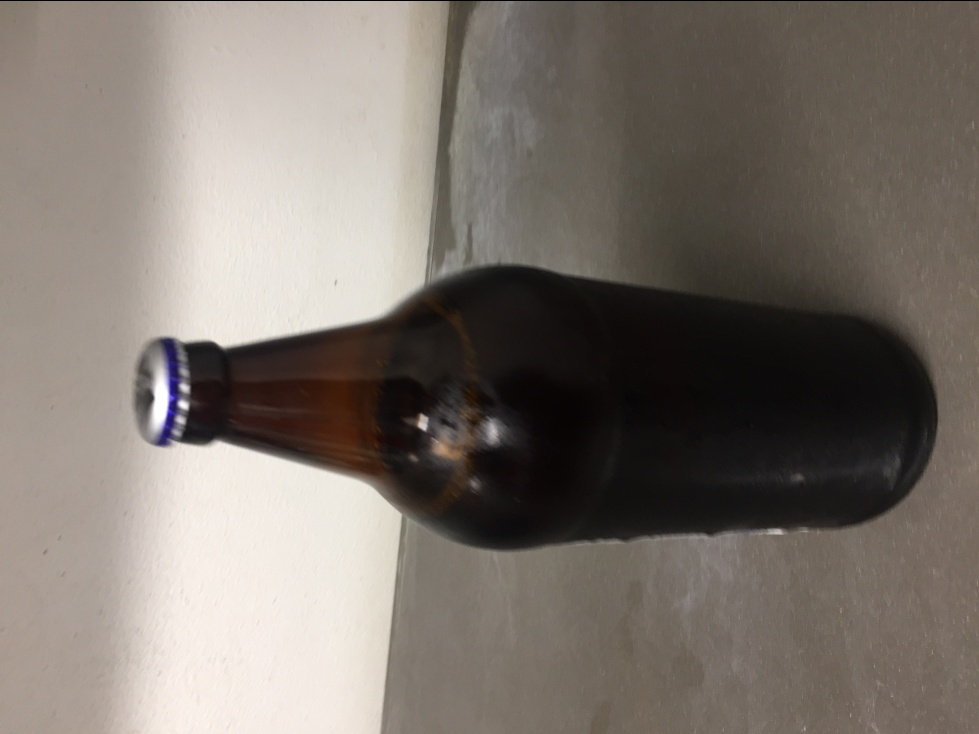tecateC: (132, 267, 938, 553)
